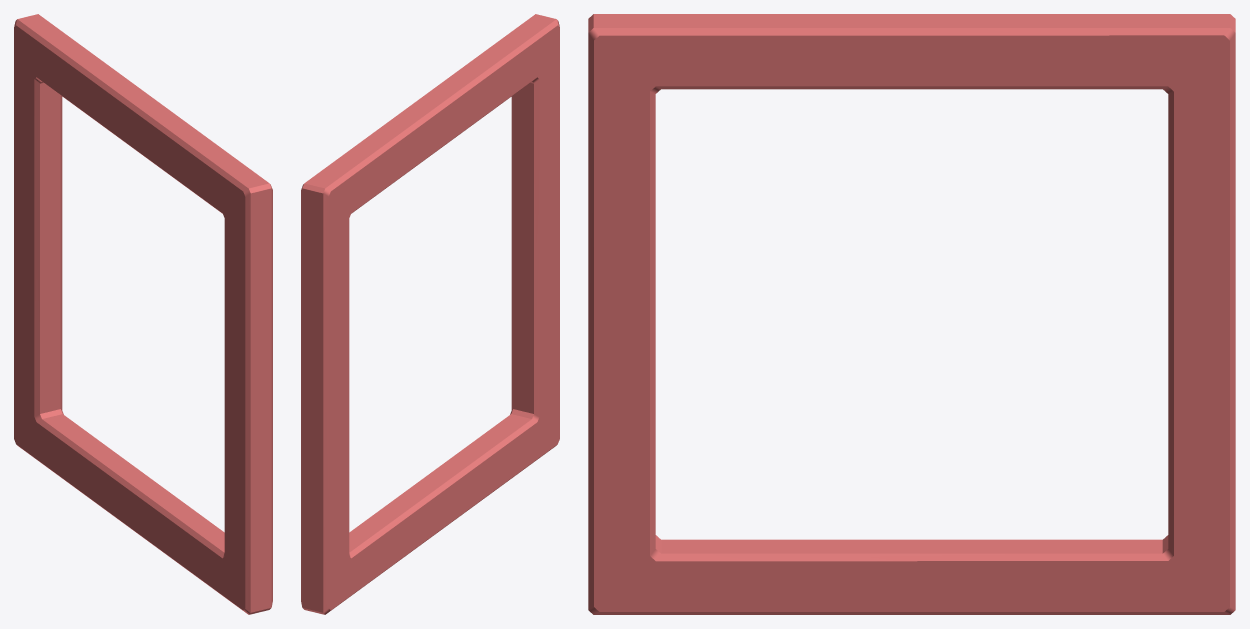
The model's file is p_SquareRing.fbx.
3 renders of one model, left to right at view 1: azimuth 30°, elevation 25°; view 2: azimuth 150°, elevation 25°; view 3: azimuth 270°, elevation 25°, orthographic. The views are drawn at different scales.
Visible parts, largest first — view 1: p_SquareRing; view 2: p_SquareRing; view 3: p_SquareRing.
Part boxes in pixels (x1=…): p_SquareRing: x1=14, y1=14, x2=272, y2=614; p_SquareRing: x1=301, y1=14, x2=559, y2=614; p_SquareRing: x1=588, y1=14, x2=1235, y2=614.
Bounding box in the file's own units: 0.0963 × 1.42 × 1.42.
